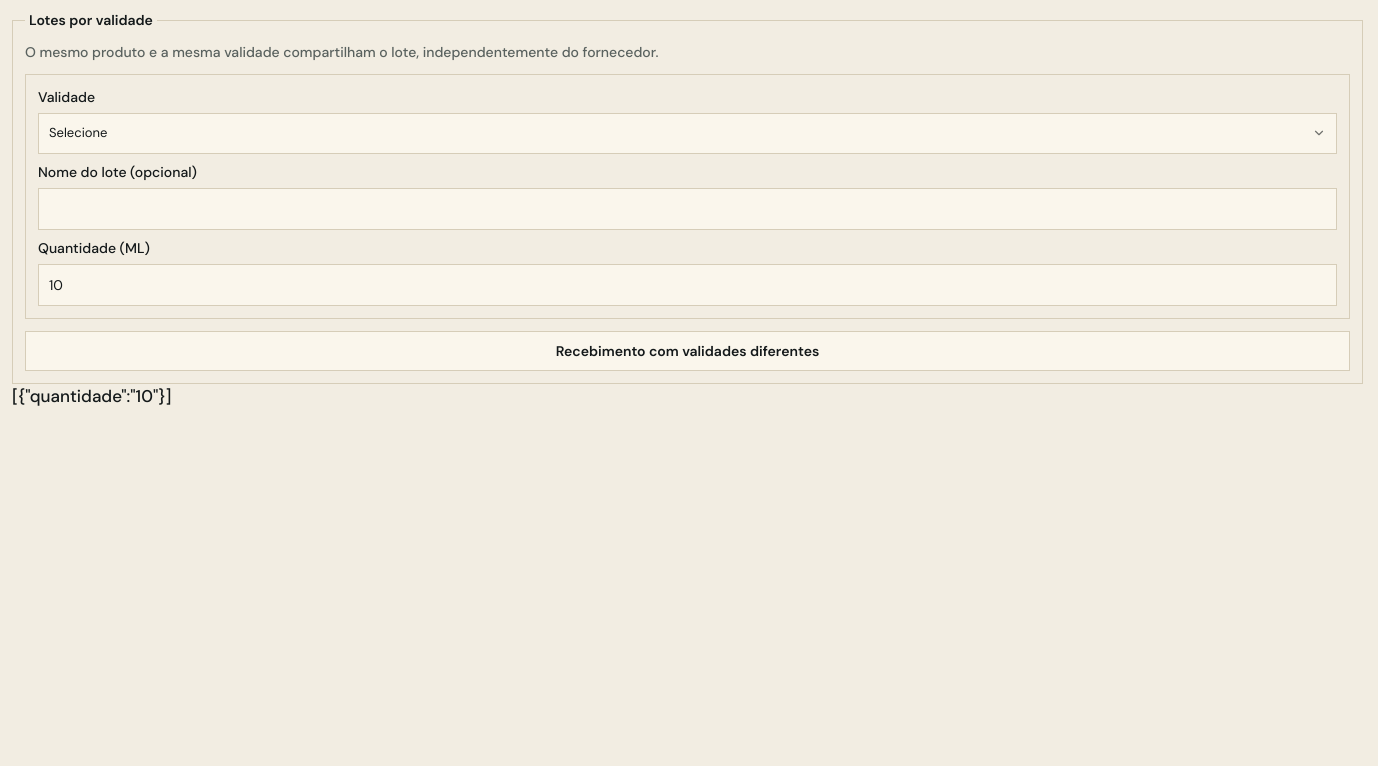
Test: lotes do produto › inicia um lote com a quantidade do item; divisão é explícita
The image size is (1378, 766).
Expected: the number field named "Quantidade do lote 1" holds "10", top-left (38, 264), bottom-right (1337, 306)
In the field named "Nome do lote 1": (688, 209) top-left (38, 188), bottom-right (1337, 230), type "NOVO"
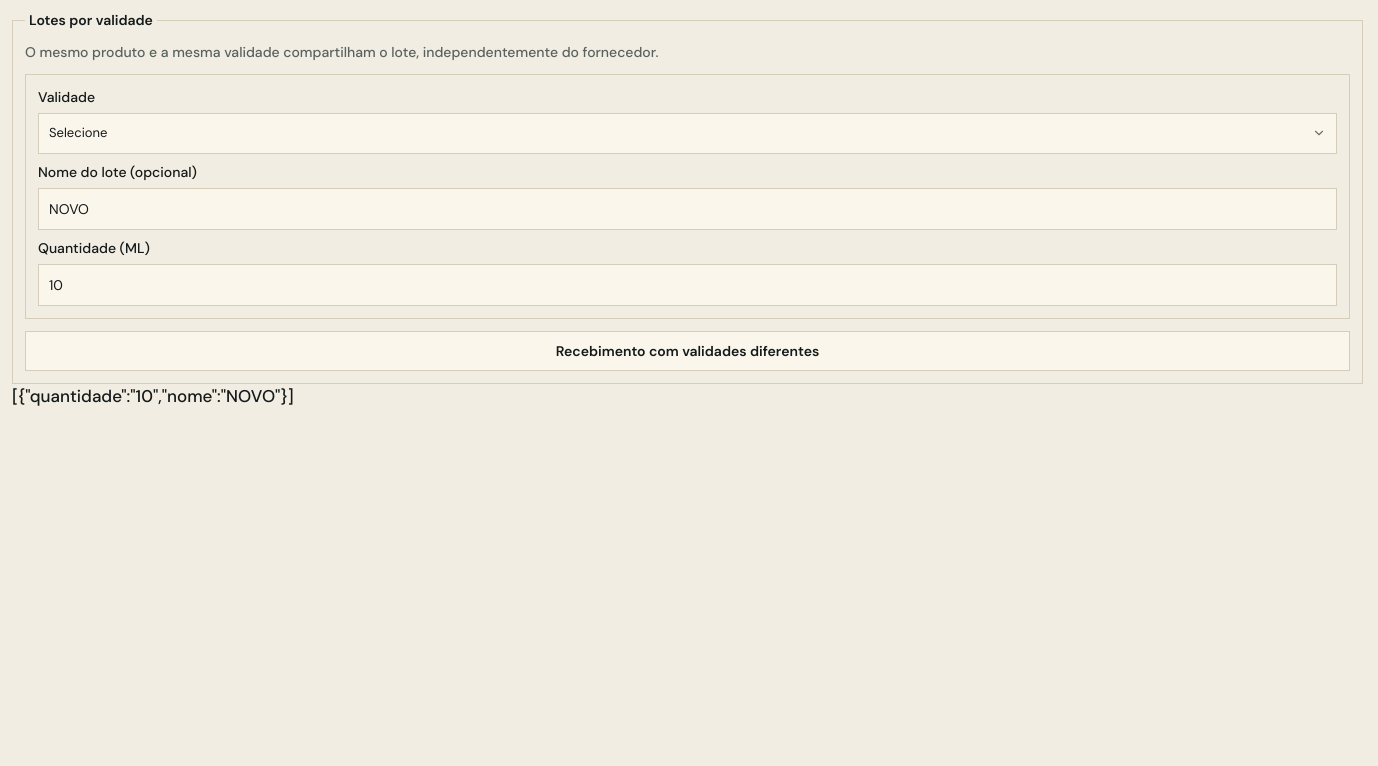
Click the button "Recebimento com validades diferentes": (688, 351) top-left (25, 331), bottom-right (1350, 371)
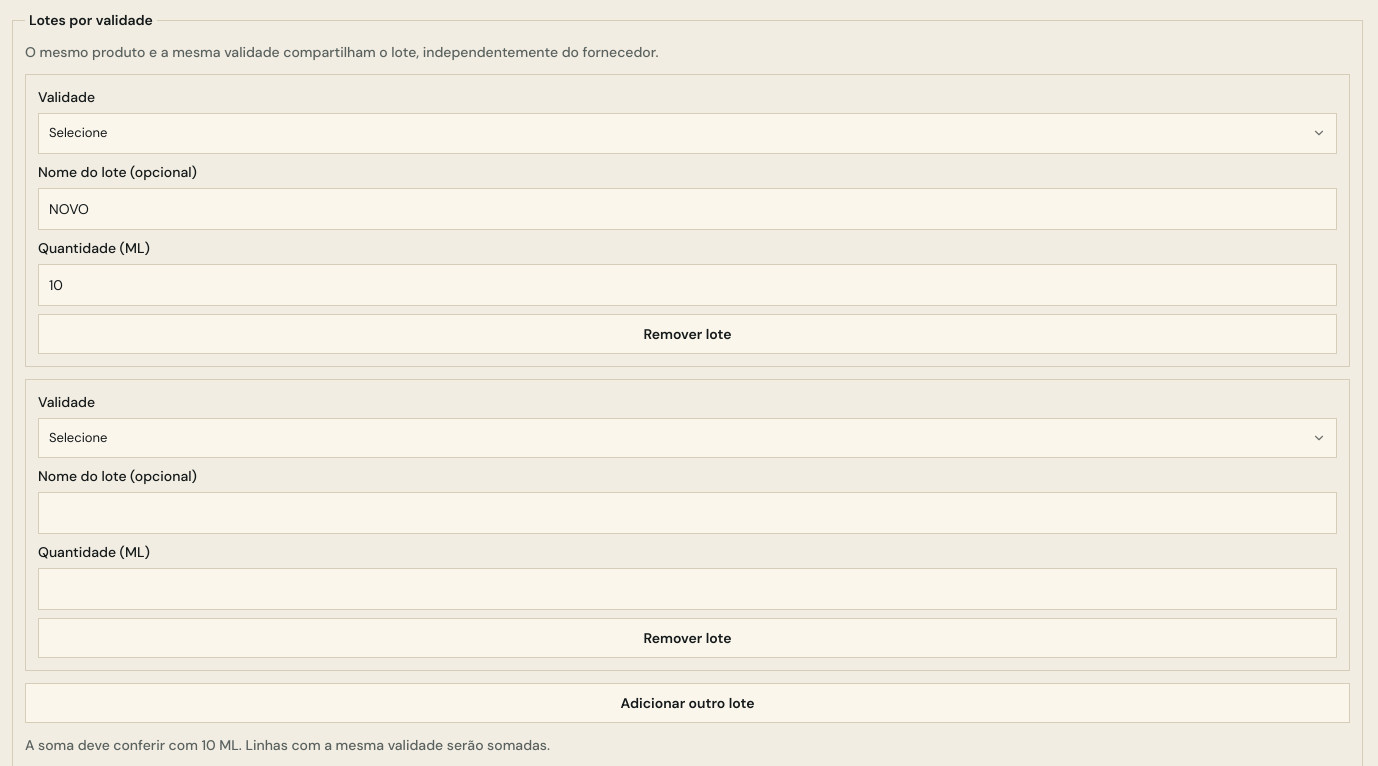
Replace the text in the number field named "Quantidade do lote 1" with "4": (688, 285) top-left (38, 264), bottom-right (1337, 306)
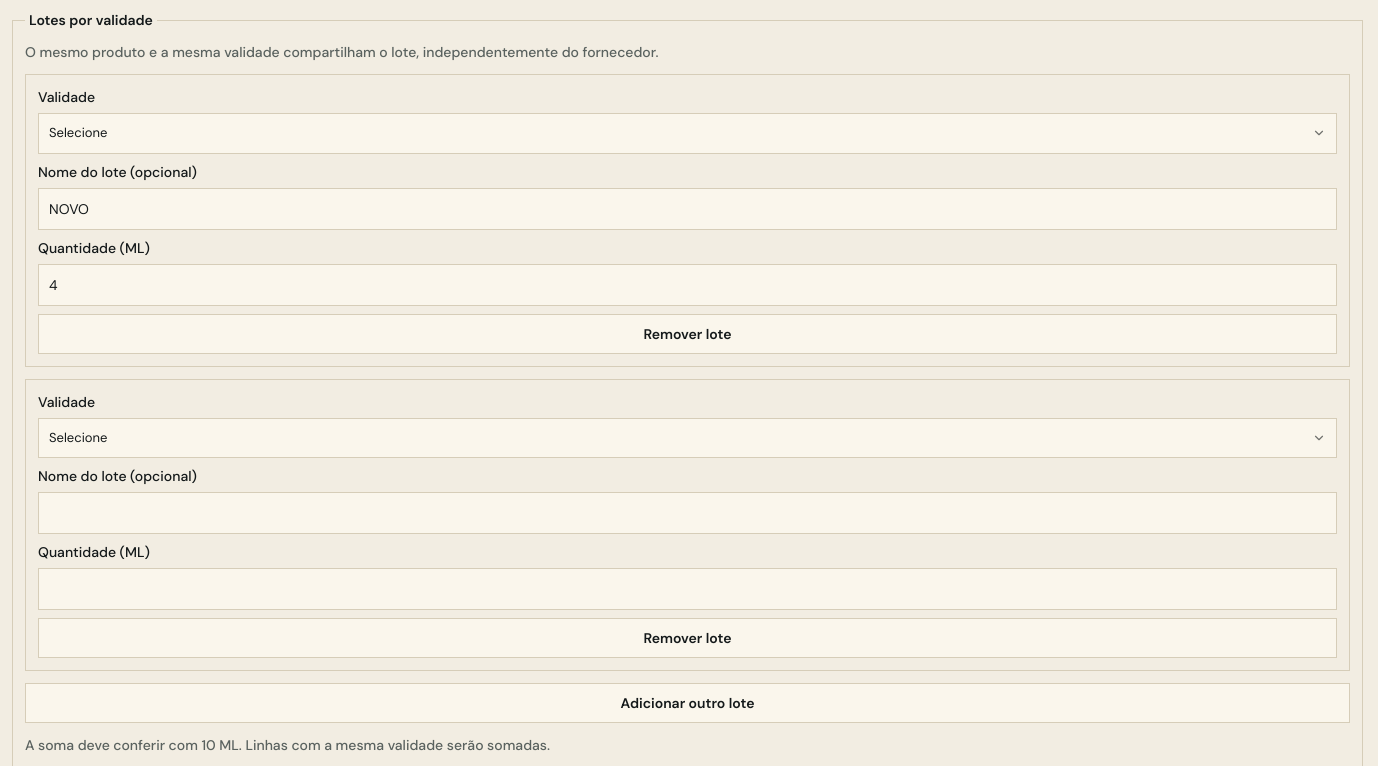
In the number field named "Quantidade do lote 2": (688, 589) top-left (38, 568), bottom-right (1337, 610), type "6"
(page scrolled)
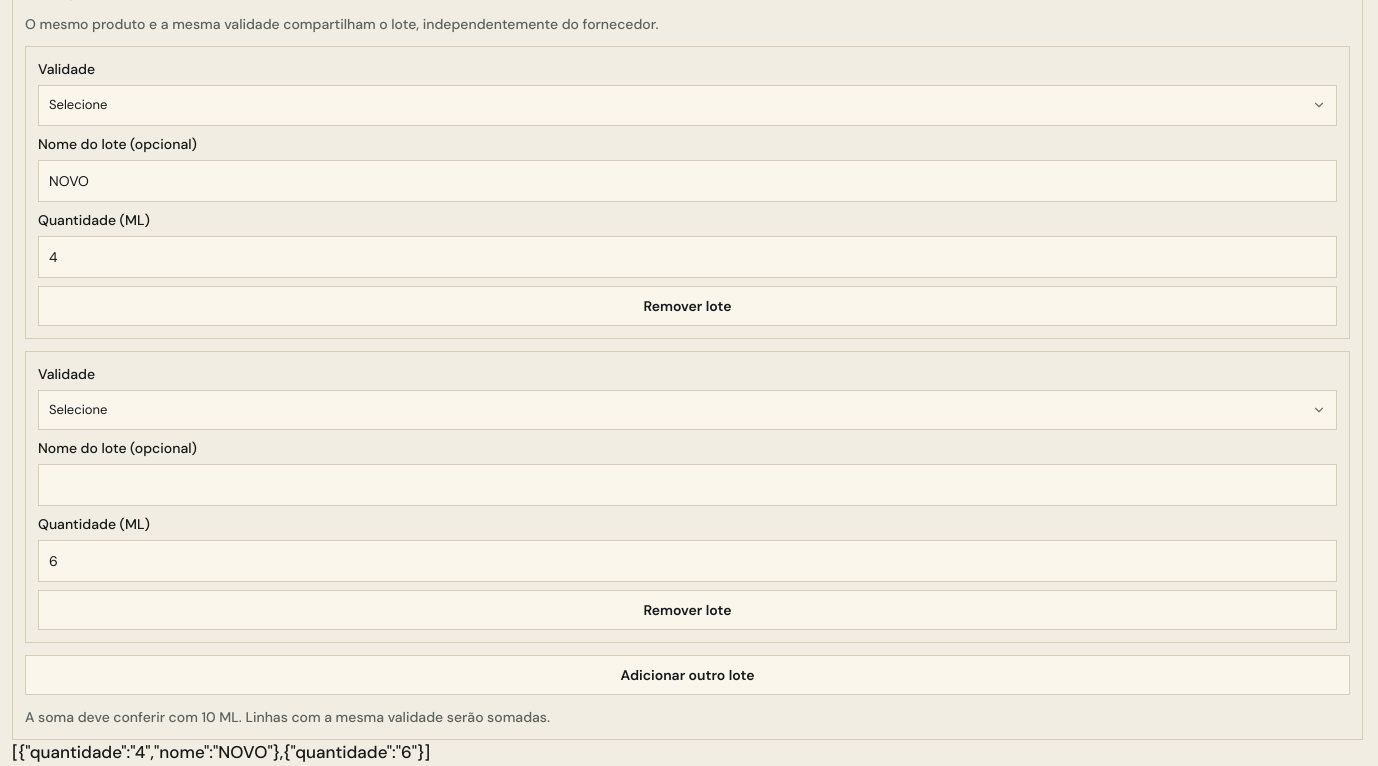
Expected: the text with test id "escolhas" shows "\"quantidade\":\"4\"", top-left (12, 741), bottom-right (430, 763)
Expected: the text with test id "escolhas" shows "\"quantidade\":\"6\"", top-left (12, 741), bottom-right (430, 763)
